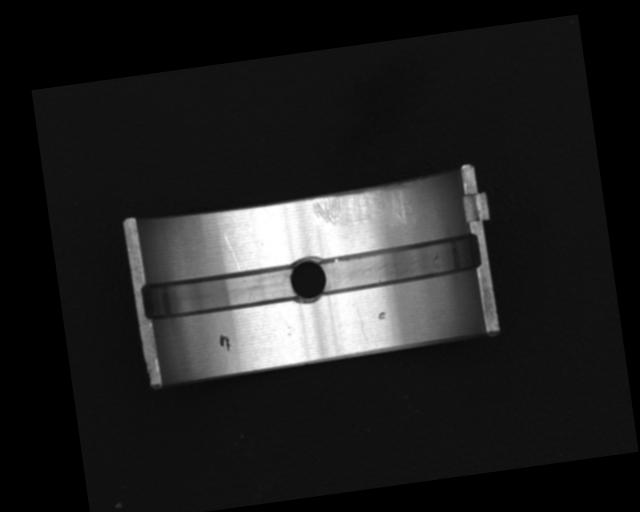blot: (218, 331, 232, 352)
bruise: (377, 310, 387, 320)
gap: (314, 232, 483, 296), (137, 261, 299, 322)
hole: (286, 251, 329, 305)
nick: (222, 230, 240, 272), (356, 308, 367, 341)
scratch: (309, 181, 416, 236)
